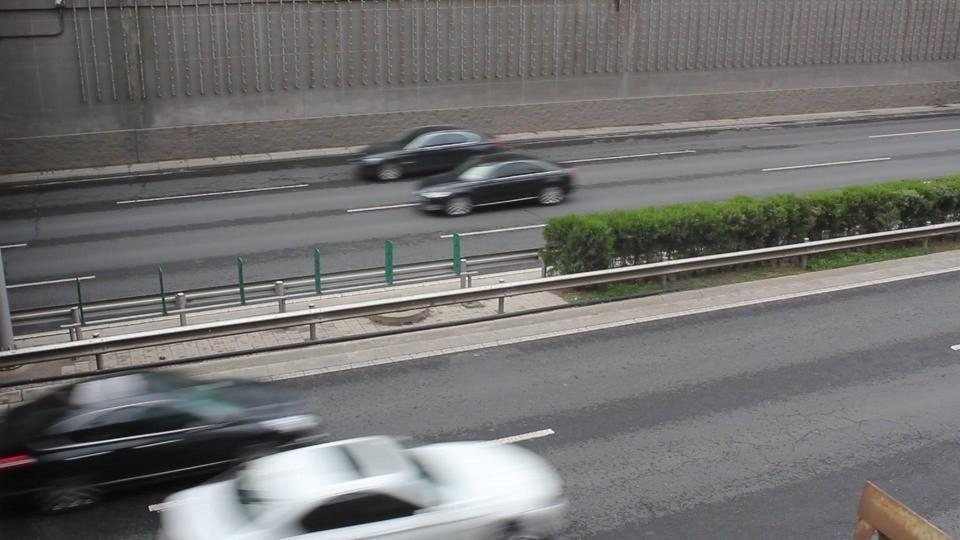car: (1, 366, 325, 514), (146, 432, 568, 538), (409, 157, 579, 217), (349, 126, 492, 182)
